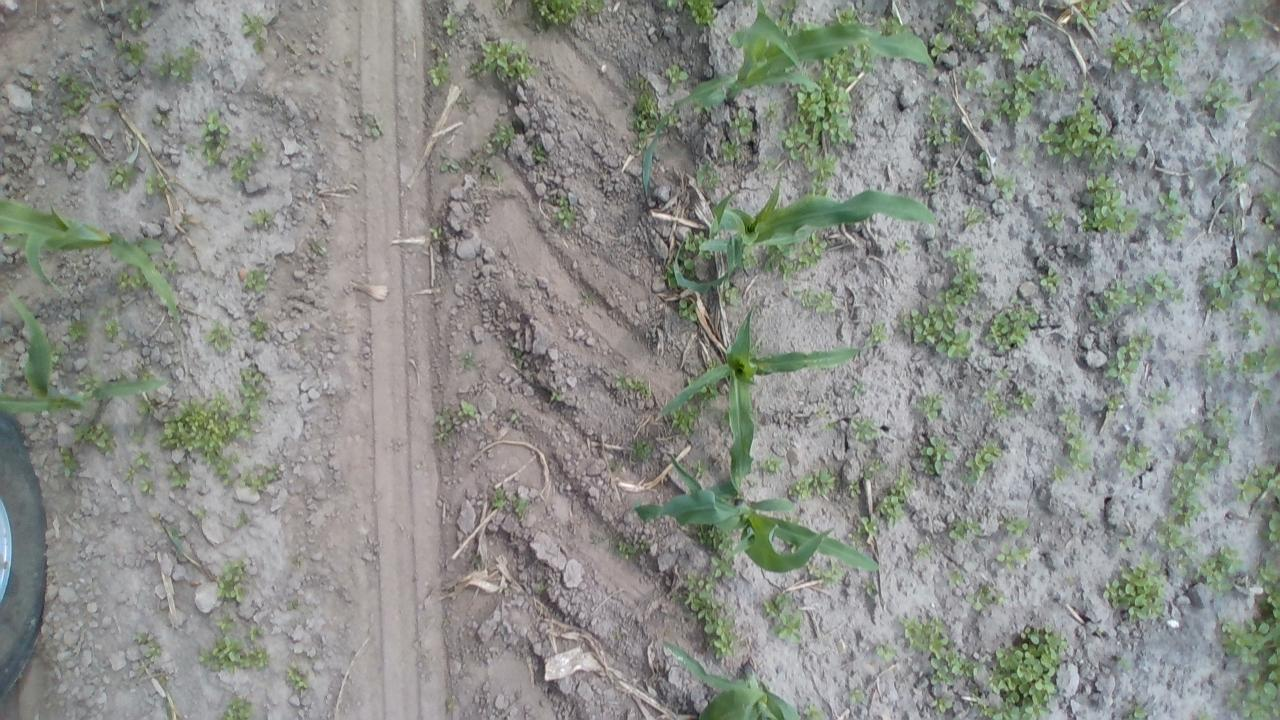Maize: (644, 0, 932, 203), (658, 308, 863, 485), (633, 450, 888, 582), (675, 171, 936, 289), (0, 198, 179, 320), (0, 290, 169, 415), (660, 643, 800, 719), (94, 94, 176, 195), (153, 513, 207, 574), (143, 667, 184, 720)
Weeds: (894, 238, 982, 361), (1038, 78, 1138, 168), (778, 56, 856, 162), (986, 622, 1069, 720), (158, 394, 255, 470), (1167, 435, 1230, 531), (1223, 616, 1278, 719), (1201, 246, 1280, 312), (680, 575, 736, 658), (1103, 558, 1168, 622), (989, 65, 1061, 122), (1076, 173, 1140, 234), (1156, 17, 1196, 95), (468, 38, 534, 84), (198, 632, 270, 674), (984, 302, 1042, 350), (1106, 330, 1154, 383), (990, 7, 1032, 61), (196, 106, 232, 168), (1108, 33, 1154, 78), (1198, 544, 1242, 591), (46, 131, 98, 170), (946, 0, 987, 49), (1208, 150, 1250, 197), (71, 419, 118, 460), (760, 593, 801, 639), (1154, 188, 1190, 240), (1232, 460, 1276, 502), (532, 0, 602, 26), (902, 616, 952, 652), (700, 530, 737, 577), (154, 47, 202, 82), (789, 468, 831, 504), (632, 82, 662, 132), (915, 122, 970, 149), (918, 434, 954, 475), (216, 560, 249, 604), (1204, 80, 1240, 120), (930, 651, 980, 679), (58, 72, 89, 116), (806, 154, 840, 194), (1256, 560, 1280, 616), (1236, 342, 1278, 374), (95, 300, 126, 342), (427, 44, 453, 93), (966, 439, 1001, 475), (614, 371, 657, 400), (1138, 386, 1174, 420), (1258, 183, 1280, 237), (612, 530, 654, 558), (124, 0, 160, 32), (1120, 440, 1152, 476), (1065, 432, 1092, 471), (957, 58, 986, 94), (1079, 0, 1116, 28), (772, 0, 804, 32), (104, 162, 136, 194), (1197, 340, 1227, 374), (968, 582, 1007, 608), (240, 469, 284, 492), (114, 38, 150, 66), (978, 389, 1010, 419), (1156, 518, 1186, 550), (238, 364, 266, 398), (133, 630, 161, 664), (111, 270, 146, 297), (1229, 15, 1265, 41), (806, 557, 842, 583), (994, 542, 1030, 567), (488, 118, 516, 150), (243, 266, 271, 298), (728, 104, 756, 136), (223, 692, 256, 719), (798, 289, 835, 313), (1125, 281, 1150, 316), (1102, 278, 1127, 313), (993, 172, 1022, 202), (770, 250, 806, 274), (1040, 201, 1068, 231), (1125, 2, 1167, 22), (876, 492, 906, 520), (850, 516, 880, 544), (949, 514, 981, 540), (1257, 72, 1280, 108), (443, 5, 465, 42), (924, 92, 951, 122), (850, 414, 880, 441), (754, 150, 780, 181), (840, 684, 876, 706), (1236, 310, 1264, 338), (680, 234, 700, 273), (800, 236, 830, 262), (686, 0, 717, 25), (246, 311, 271, 342), (554, 196, 578, 228), (205, 324, 232, 352), (672, 405, 698, 434), (1015, 140, 1040, 170), (1145, 271, 1170, 301), (876, 14, 910, 36), (814, 402, 836, 436), (500, 341, 526, 369), (1248, 378, 1274, 406), (143, 167, 169, 195), (800, 696, 830, 720), (696, 160, 720, 190), (924, 690, 956, 712), (916, 393, 944, 418), (674, 296, 699, 324), (247, 206, 276, 230), (862, 457, 892, 480), (858, 44, 880, 75), (1084, 298, 1110, 324), (285, 664, 311, 690), (659, 257, 678, 292), (627, 435, 653, 460), (240, 12, 264, 39), (904, 536, 934, 557), (1218, 210, 1242, 236), (1210, 405, 1236, 429), (864, 322, 888, 348), (125, 421, 151, 445), (1251, 115, 1280, 136), (1042, 271, 1066, 296), (1058, 407, 1082, 432), (228, 153, 249, 181), (845, 377, 868, 402), (479, 159, 501, 185), (890, 474, 916, 496), (1114, 653, 1141, 674), (760, 100, 781, 127), (68, 316, 88, 344), (435, 412, 455, 440), (664, 65, 688, 88), (456, 348, 478, 373), (161, 253, 183, 278), (1005, 514, 1031, 535), (765, 452, 786, 478), (512, 491, 532, 518), (744, 244, 762, 274), (719, 139, 742, 162), (149, 108, 172, 131), (440, 150, 462, 174), (530, 138, 552, 162), (658, 0, 689, 17), (829, 6, 860, 23), (961, 204, 986, 225), (246, 135, 266, 161), (972, 150, 992, 176), (723, 282, 743, 308), (218, 460, 235, 490), (605, 450, 629, 471), (74, 370, 102, 388), (860, 576, 881, 600), (170, 465, 190, 490), (1176, 420, 1202, 439), (1015, 391, 1037, 413), (456, 398, 479, 419), (1118, 703, 1146, 720), (214, 612, 235, 634), (876, 642, 898, 662), (931, 32, 948, 57), (49, 343, 66, 368), (1264, 508, 1276, 543), (1192, 704, 1218, 720), (58, 447, 76, 470), (944, 564, 960, 589), (426, 222, 446, 242), (140, 476, 158, 498), (990, 363, 1013, 380), (188, 505, 208, 524), (133, 396, 152, 416), (364, 115, 382, 136), (120, 464, 136, 487), (1252, 150, 1272, 168), (924, 172, 942, 192), (1120, 534, 1138, 553), (232, 511, 248, 532), (134, 451, 152, 469), (692, 459, 709, 478), (1048, 465, 1068, 481), (137, 366, 157, 382), (1105, 396, 1125, 412), (244, 623, 260, 642), (547, 386, 568, 400), (492, 490, 507, 509), (665, 114, 682, 130), (290, 551, 307, 567), (848, 479, 862, 498), (284, 596, 300, 612), (26, 78, 42, 92), (182, 142, 196, 158), (253, 38, 265, 56), (576, 287, 592, 300), (1170, 286, 1182, 302)
